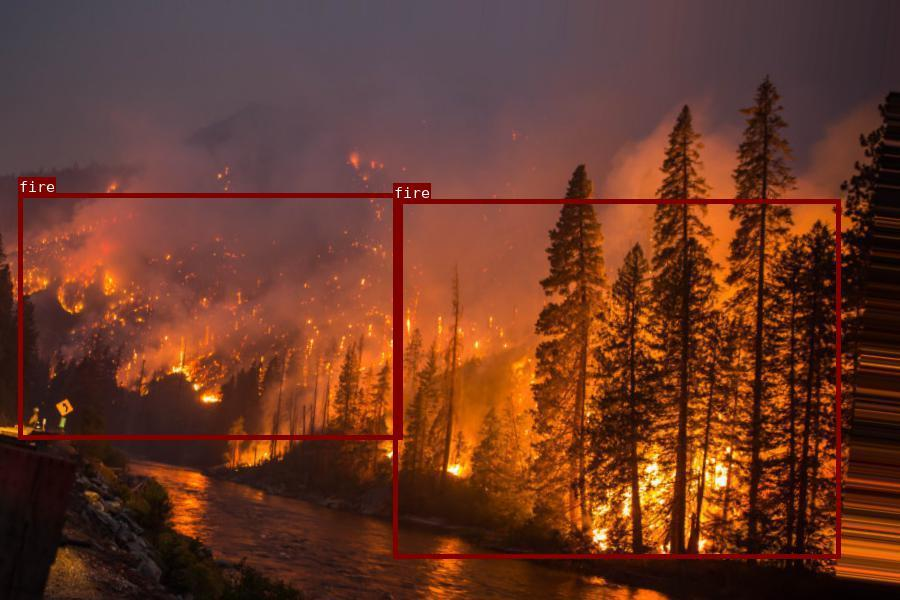fire: (393, 199, 840, 558), (17, 193, 401, 438)
